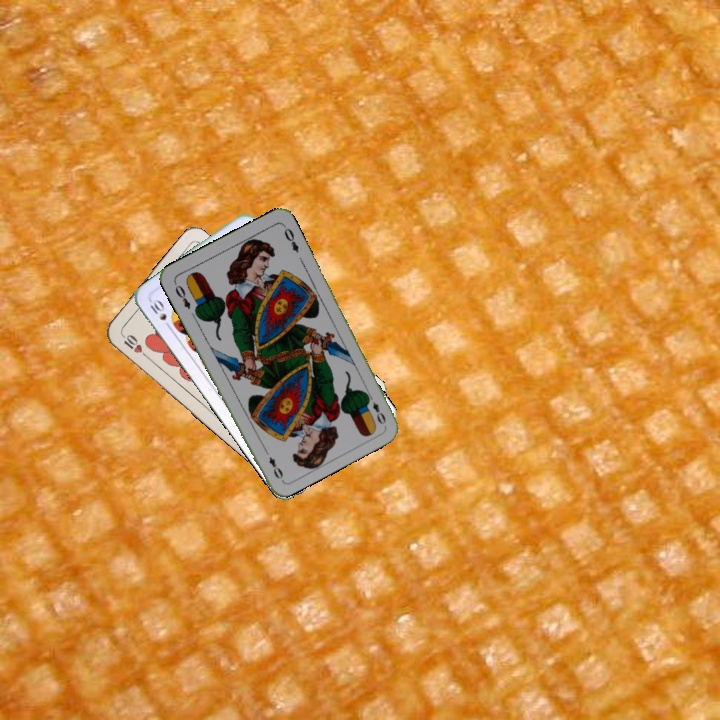EO: (363, 389, 388, 427), (171, 281, 193, 312)
H10: (117, 330, 151, 361)
S10: (144, 295, 174, 332)
